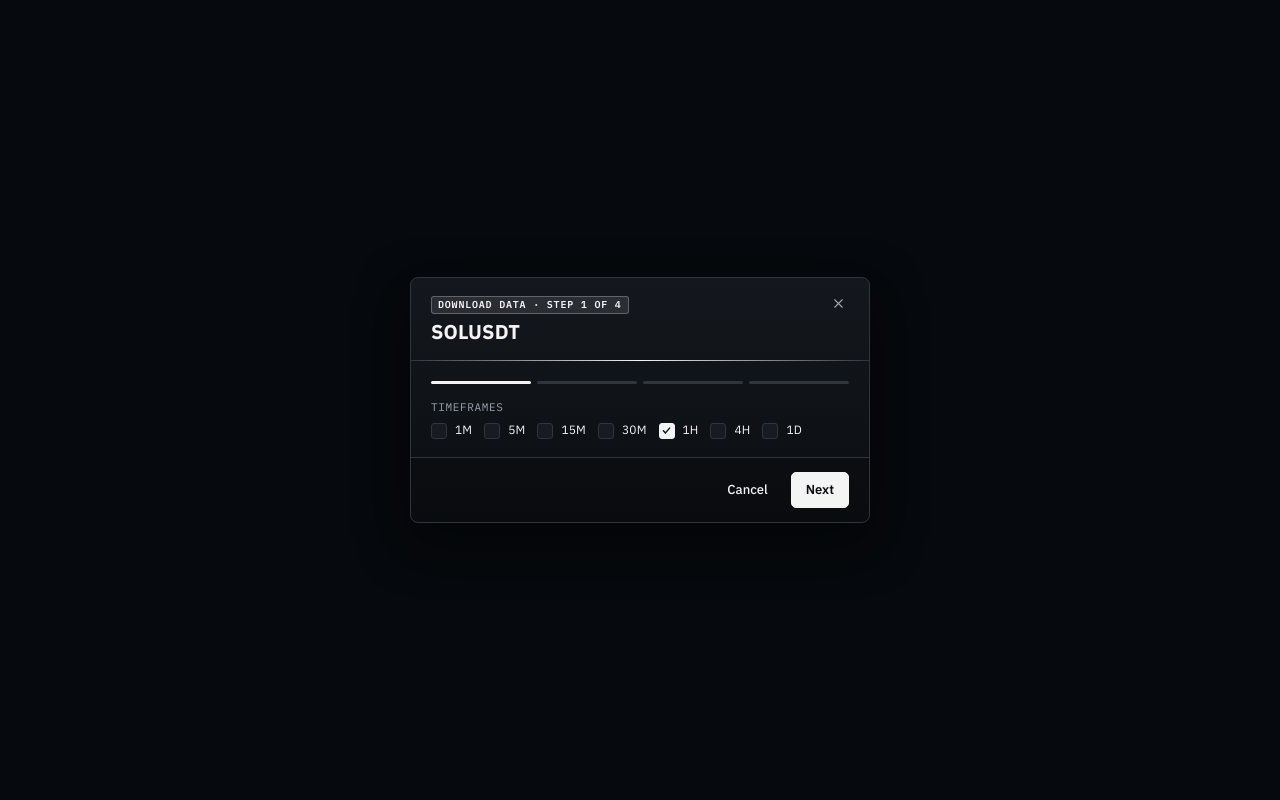
Test: Adversarial Stress Harness: Milestone 2 (Migrated Modals) › DownloadWizard: Multi-Step Interaction & Dismissal Invariants › transitions between timeframes -> range -> back to timeframes, preserving selections
Note: Check 5M in addition to 1H
Click the checkbox labelled "5M".
click(492, 431)  # box [484,422,525,439]
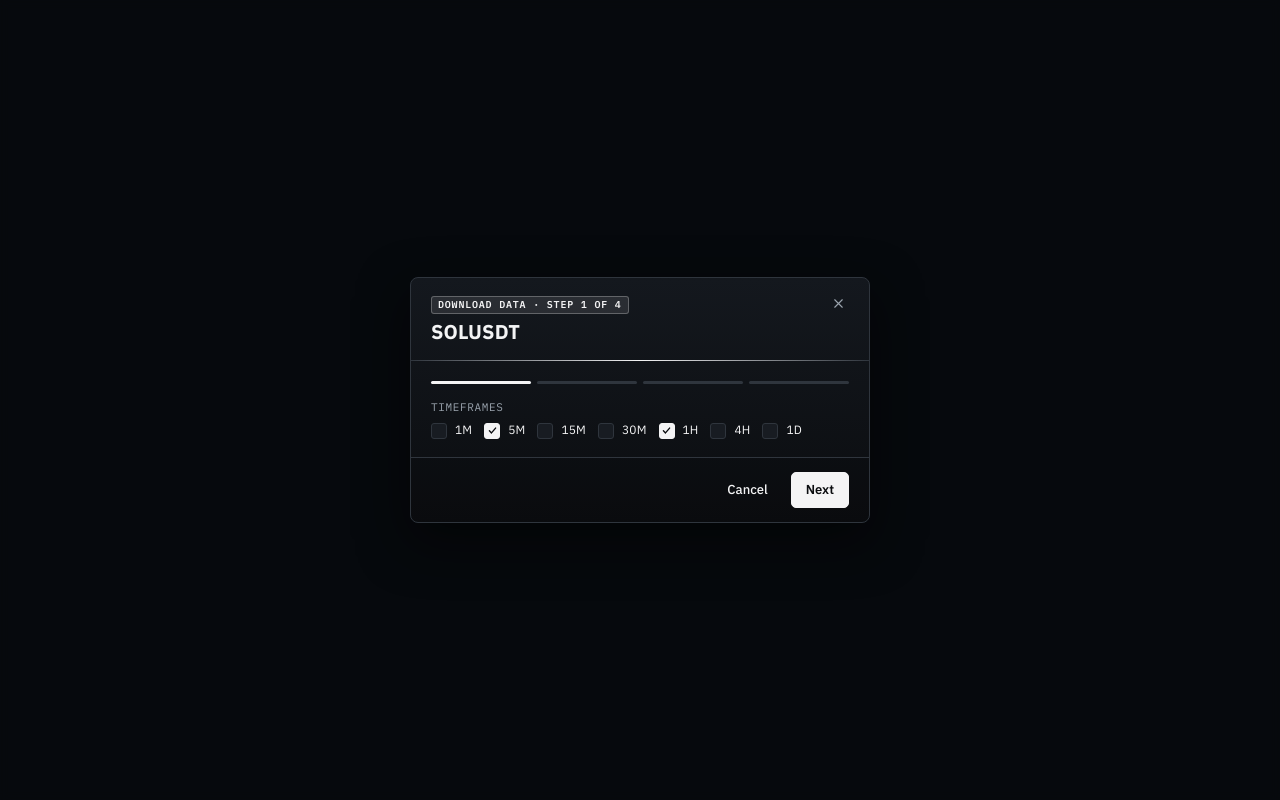
Note: Advance to Step 2 (range)
Click the button "Next".
click(820, 490)  # box [791,472,849,508]
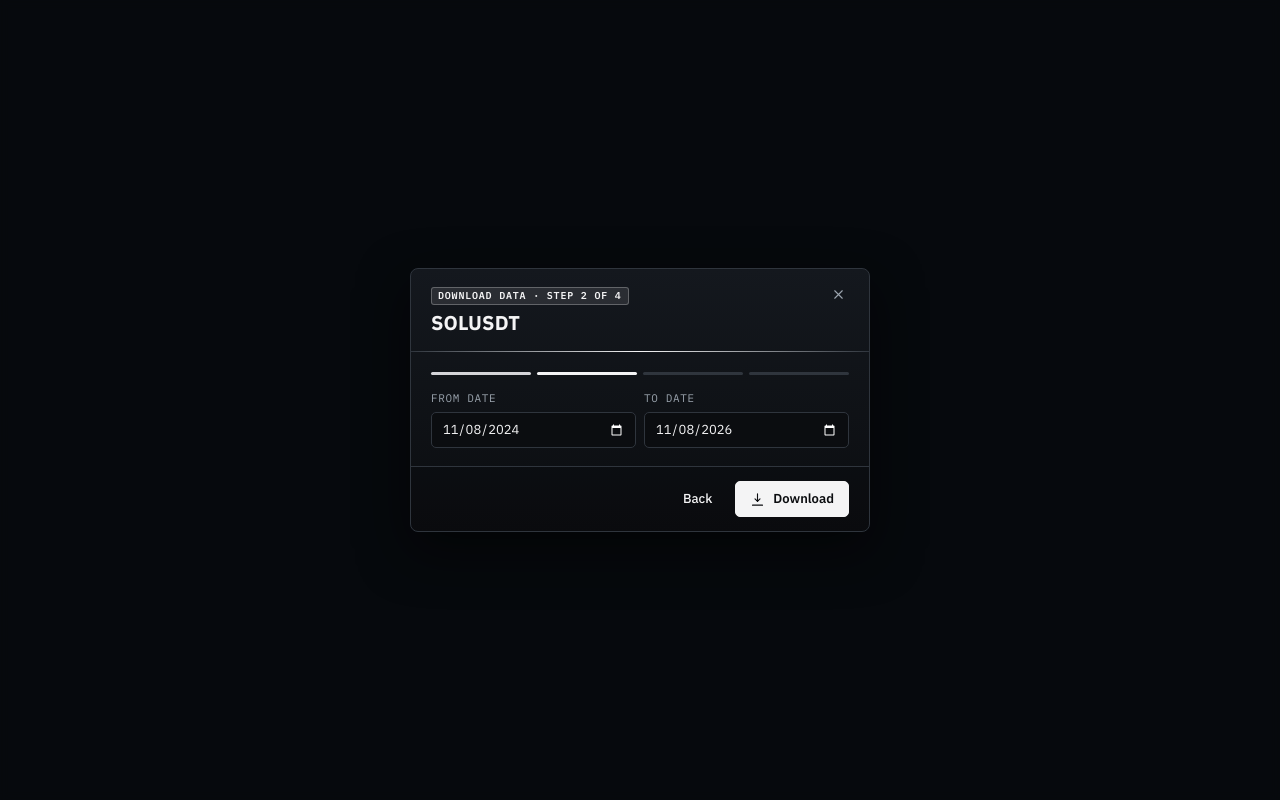
Expected: the text "Download data · Step 2 of 4" is shown, [438,291,622,301]
Expected: the date field labelled "From Date" is shown, [431,412,636,448]
Expected: the date field labelled "To Date" is shown, [644,412,849,448]
Click the button "Back".
click(698, 499)  # box [668,481,727,517]
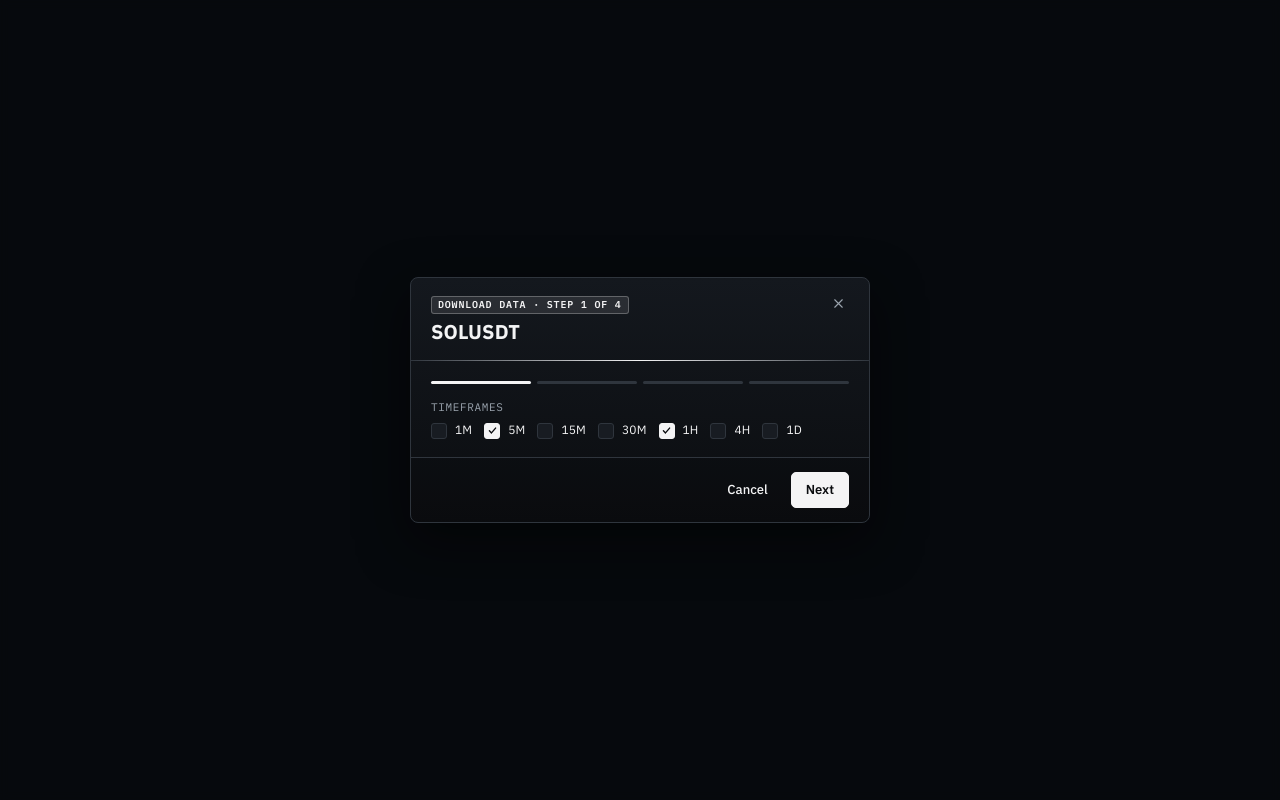
Expected: the text "Download data · Step 1 of 4" is shown, [438,300,622,310]
Expected: the checkbox labelled "5M" is checked, [484,422,525,439]
Expected: the checkbox labelled "1H" is checked, [658,422,698,439]
